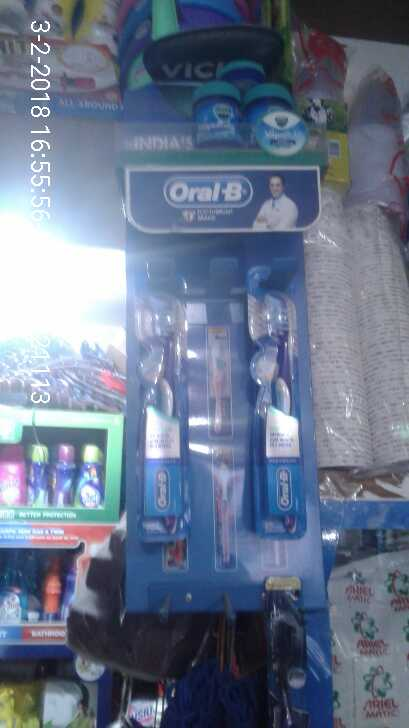pharmacy: (247, 270, 310, 537), (135, 295, 193, 539), (189, 79, 245, 151)
